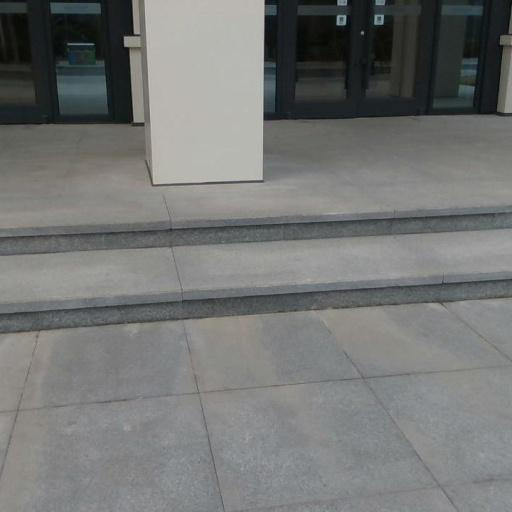stairs: (0, 208, 511, 331)
